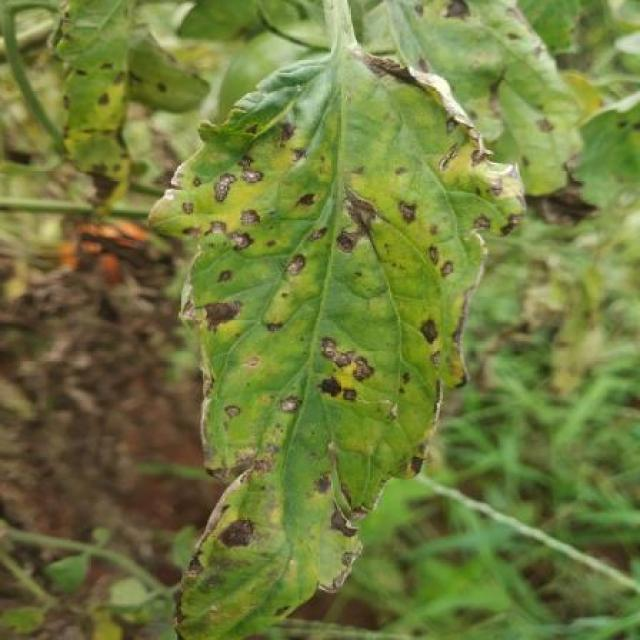Early Blight: (146, 53, 531, 640)
